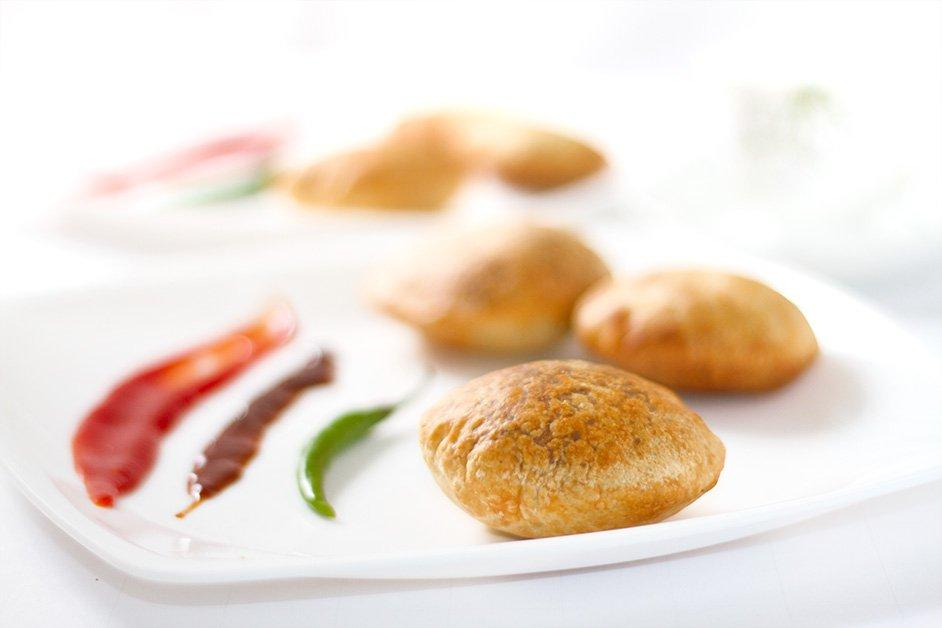kachori: (240, 178, 751, 594)
